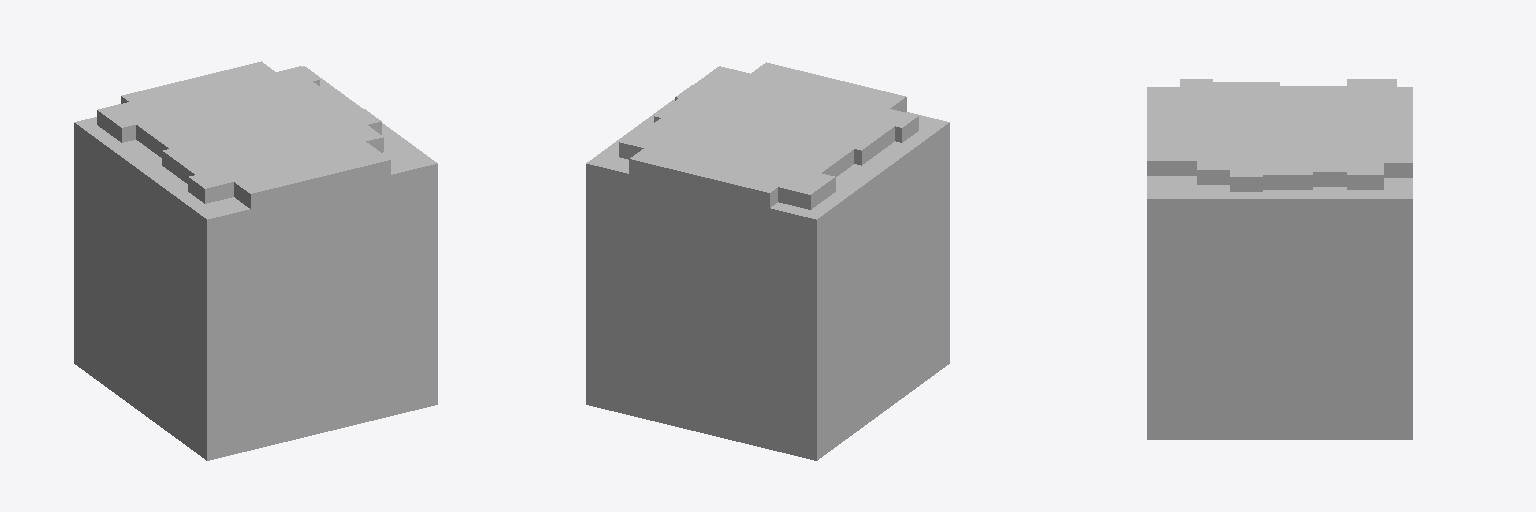
Rendered from GrassPathLine.obj.
3 views of the same model, side by side, from view 1: azimuth 30°, elevation 25°; view 2: azimuth 150°, elevation 25°; view 3: azimuth 270°, elevation 25° (orthographic).
Visible parts, largest first — view 1: cube; view 2: cube; view 3: cube.
Part boxes in pixels (x1,y1,x2,y2): cube: (74, 61, 437, 460); cube: (586, 62, 949, 460); cube: (1147, 79, 1412, 439).
Bounding box in the file's own units: 1 × 1.06 × 1.